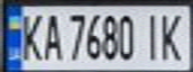0: (118, 10, 139, 62)
6: (81, 10, 103, 61)
7: (63, 10, 84, 61)
8: (100, 10, 121, 61)
A: (39, 9, 63, 62)
I: (139, 10, 166, 61)
K: (157, 9, 190, 62), (18, 9, 45, 62)
